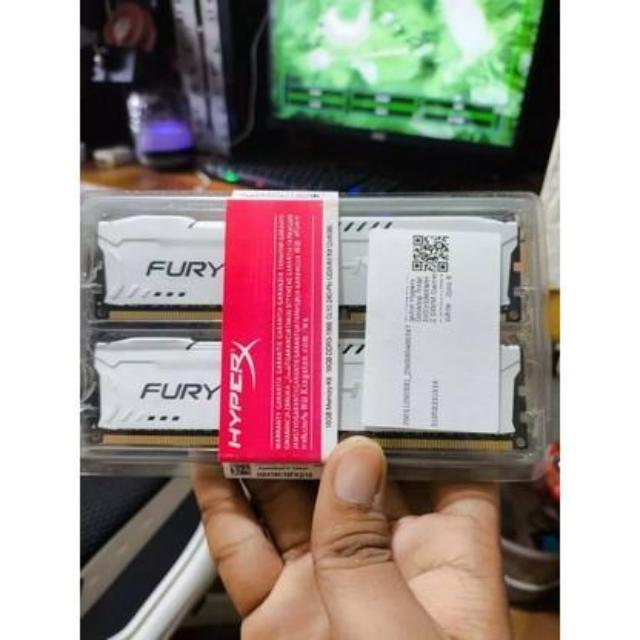RAM: (81, 336, 536, 458), (94, 205, 520, 328)
